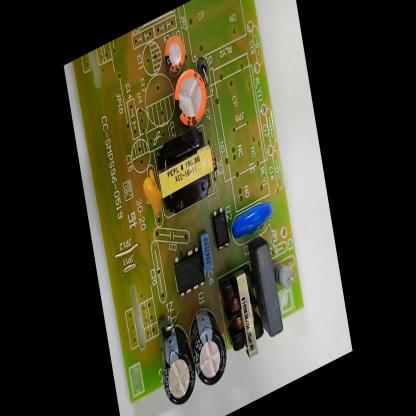Cap1: (170, 60, 212, 136)
Cap2: (160, 29, 190, 80)
Cap3: (184, 295, 232, 396)
Cap4: (152, 315, 199, 416)
MOSFET: (170, 240, 208, 301)
Mov: (227, 194, 278, 249)
Resistor: (273, 254, 299, 296)
Transformer: (152, 118, 220, 224), (219, 264, 268, 370)
